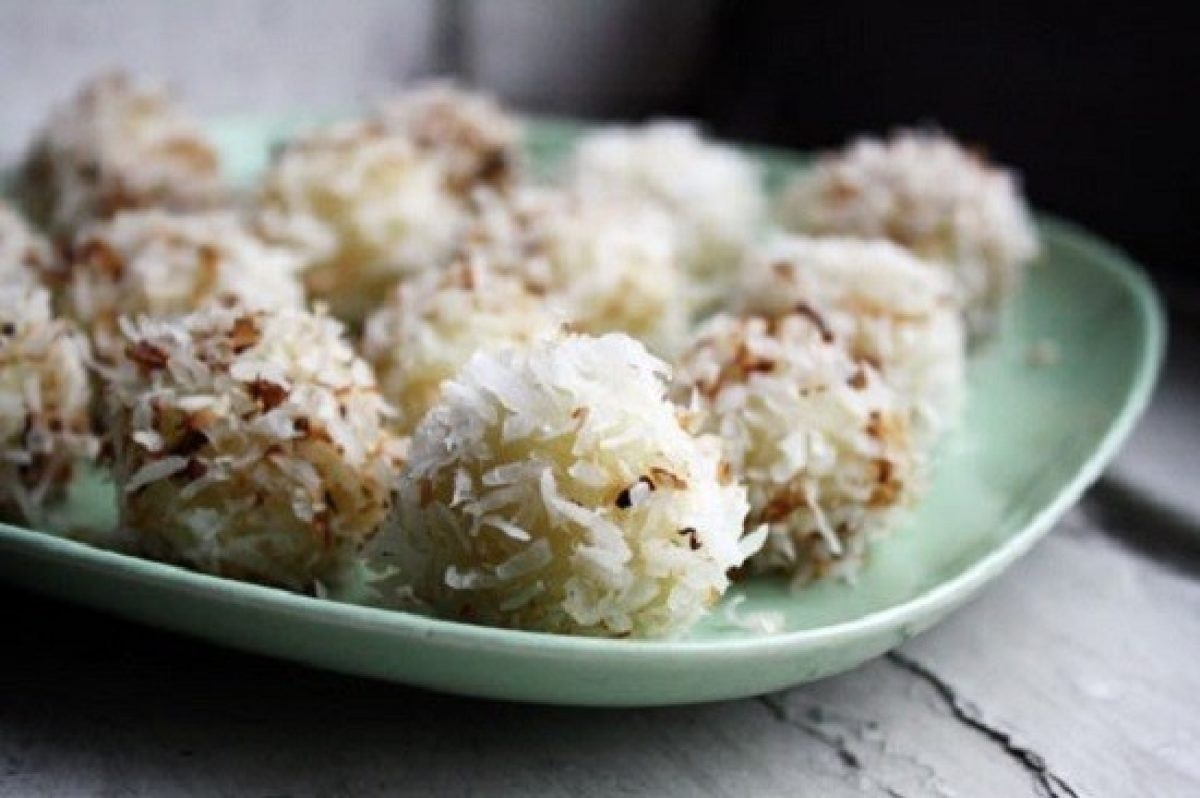klepon: (393, 310, 714, 665)
